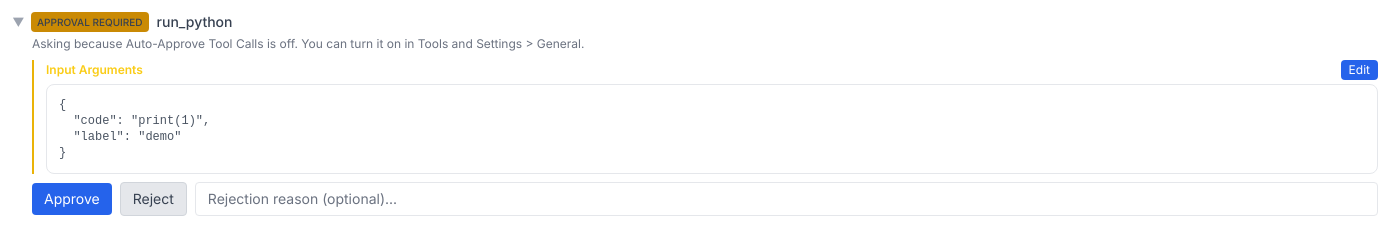
Test case: ToolApprovalMessage — compact (default) layout › records a rejection locally with the typed reason
Type "looks unsafe" into the field with placeholder "Rejection reason (optional)..." at point(786, 199), box [195,182,1378,216]
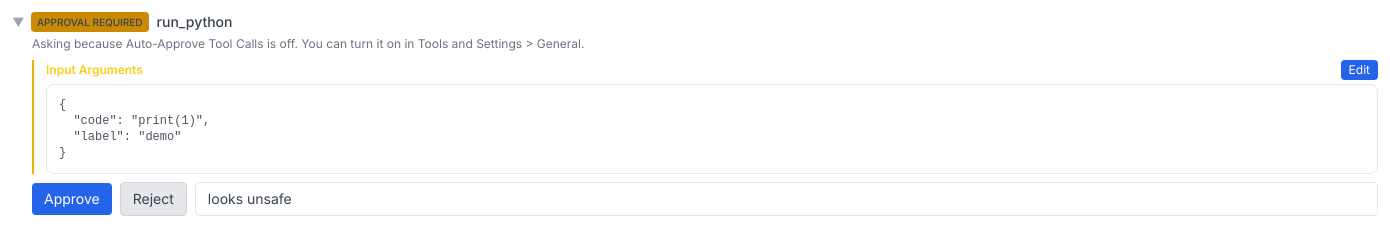
Click the button "Reject" at point(153, 199), box [120,182,187,216]
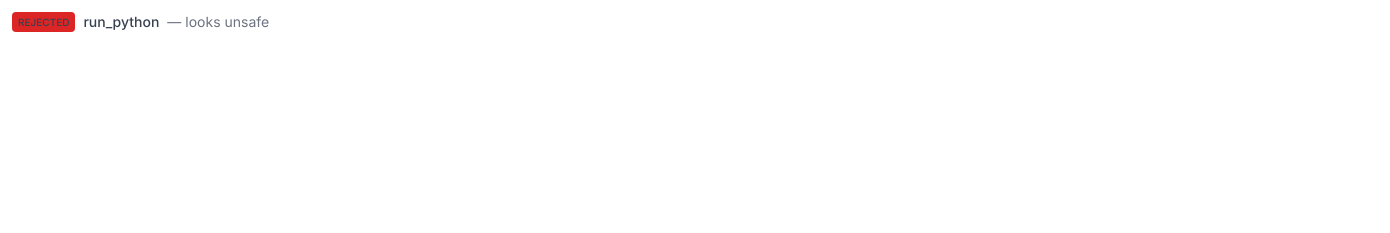
Check: the text "REJECTED" is shown, box [12,12,75,32]
Check: the text "— looks unsafe" is shown, box [167,12,269,32]
